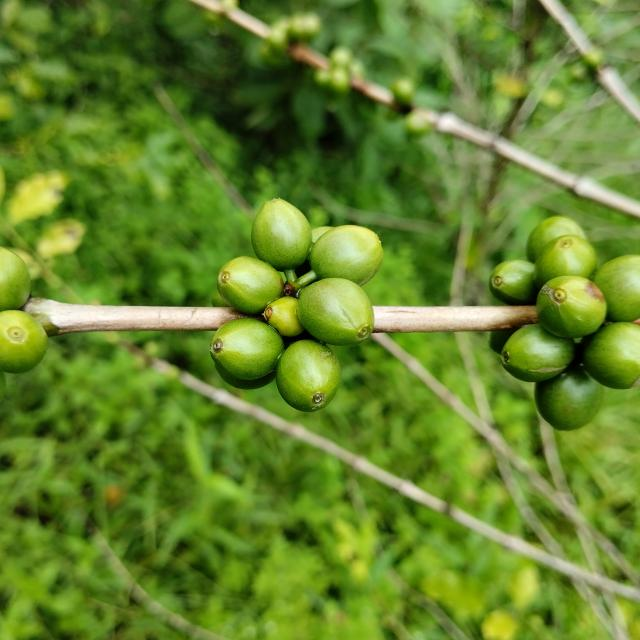green: (297, 278, 374, 346), (276, 340, 341, 412), (535, 365, 605, 431), (210, 318, 284, 380), (309, 225, 383, 286), (251, 198, 312, 271), (537, 276, 608, 338), (502, 324, 576, 382), (217, 256, 284, 314), (584, 322, 640, 389), (534, 235, 598, 289), (592, 255, 640, 322), (0, 310, 47, 373), (527, 216, 587, 262), (490, 260, 539, 305), (0, 247, 30, 311), (263, 296, 305, 337), (311, 226, 333, 243)
